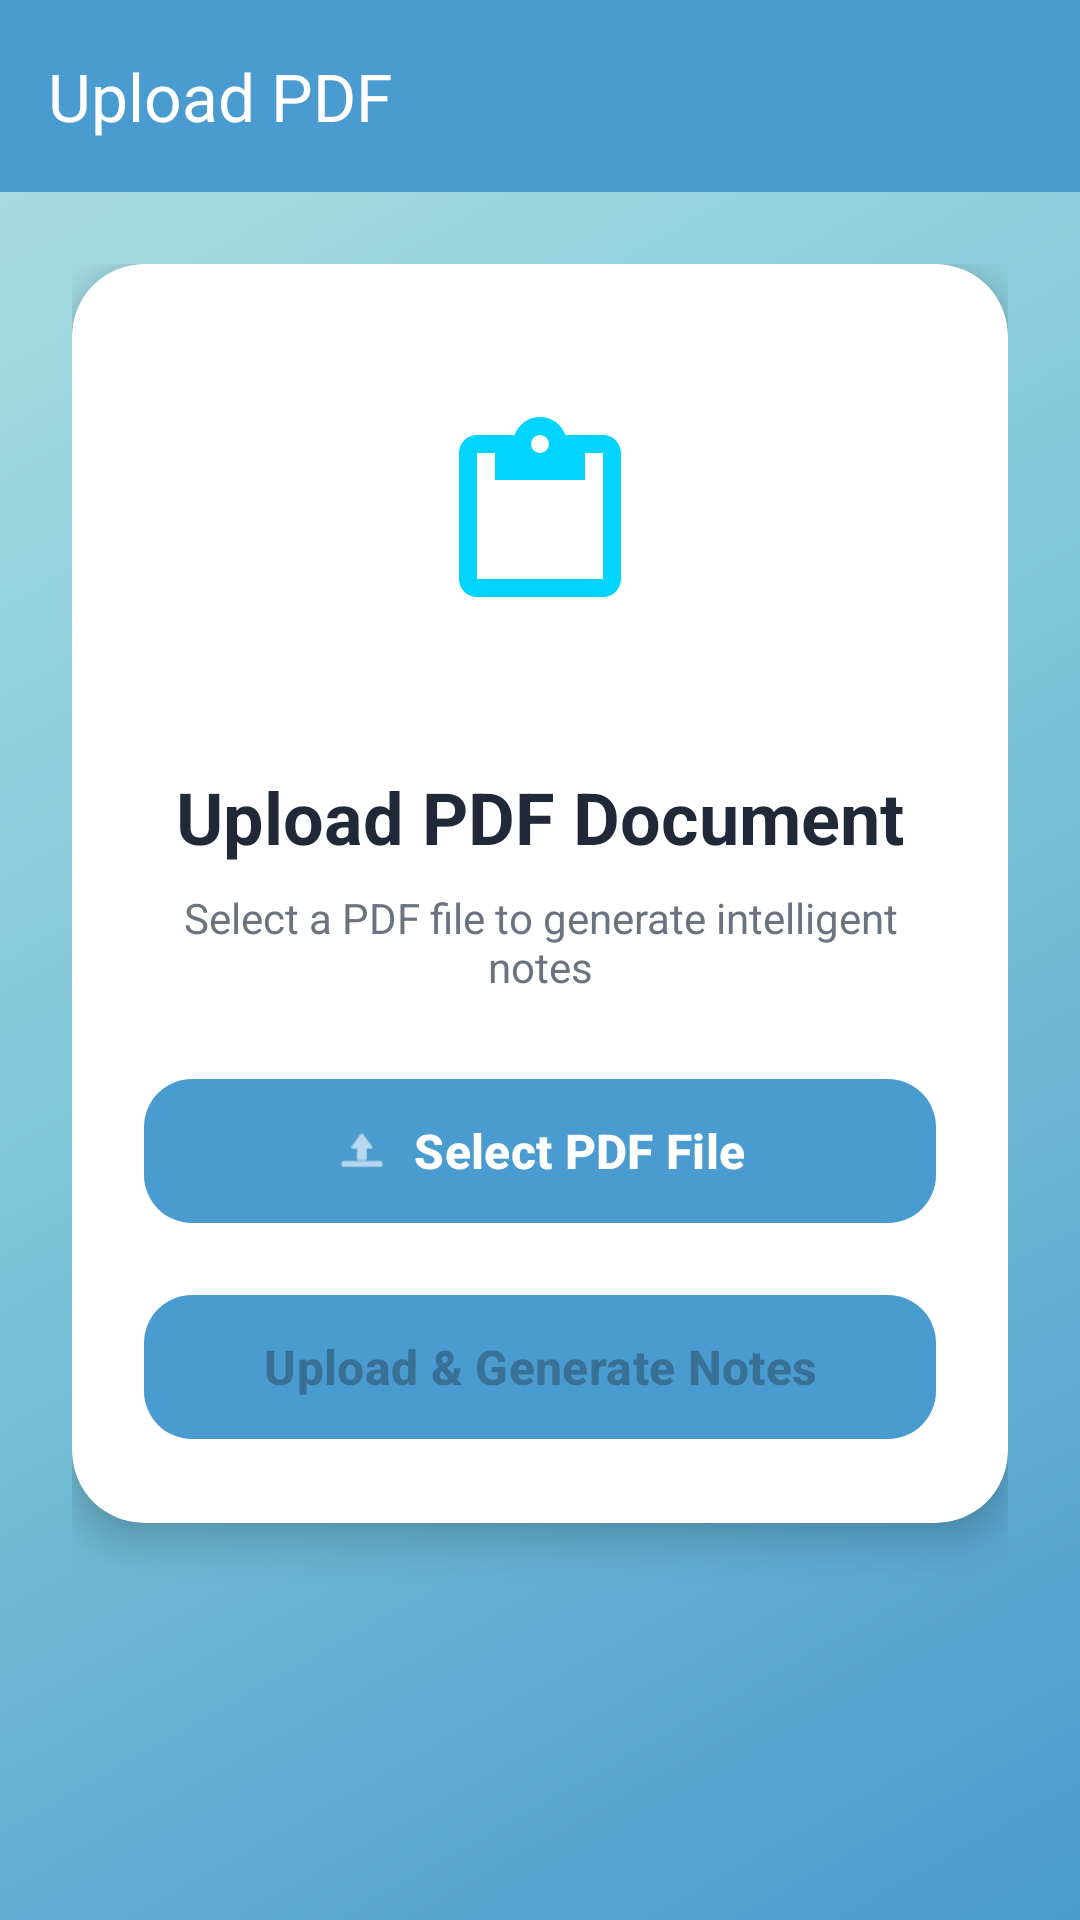

Point at icon controls on the screen. Image size 1080px×1920px, points as point (x, y).
notes: point (540, 507)
